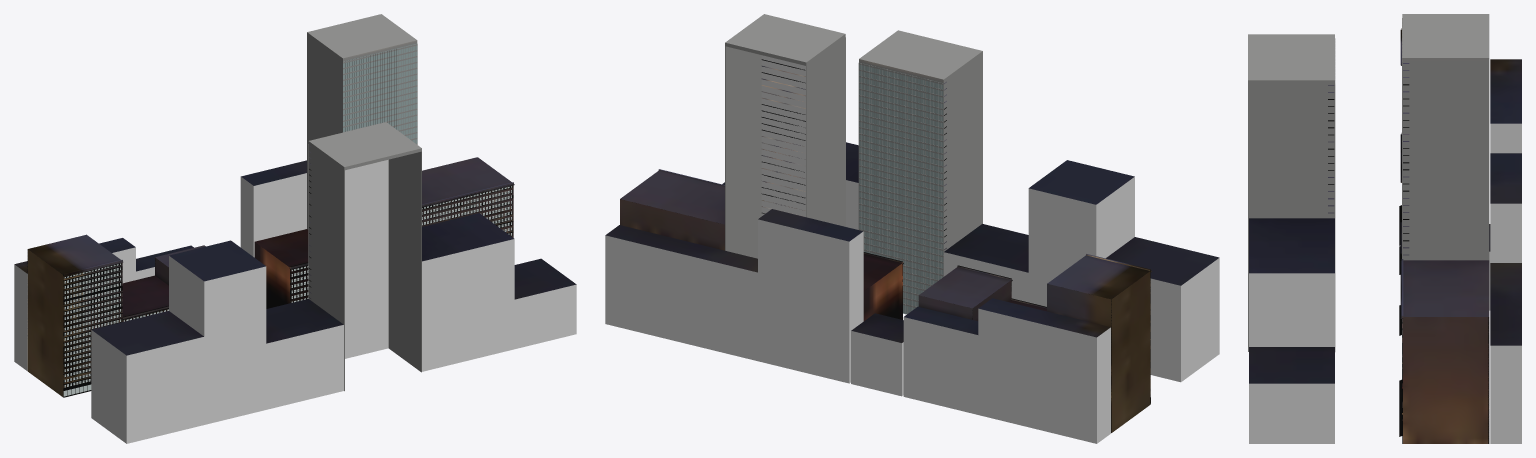
Rendered from ext_nb.glb.
The picture shows the model from 3 angles, left to right: view 1: azimuth 30°, elevation 25°; view 2: azimuth 150°, elevation 25°; view 3: azimuth 270°, elevation 25°; orthographic projection. The views are drawn at different scales.
Visible parts, largest first — view 1: ext_nb; view 2: ext_nb; view 3: ext_nb.
Boxes of the visible parts, x1,y1,x2,y2 form: ext_nb: [14, 14, 576, 443]; ext_nb: [605, 14, 1219, 443]; ext_nb: [1248, 14, 1521, 443].
Bounding box in the file's own units: 290 × 167 × 126.
31 materials, 11 textured.
